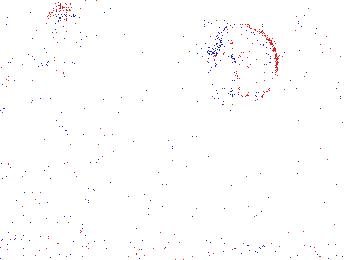moon jellyfish: (216, 23, 279, 106), (300, 8, 346, 104), (1, 1, 58, 65), (40, 6, 100, 65), (2, 54, 64, 104)
